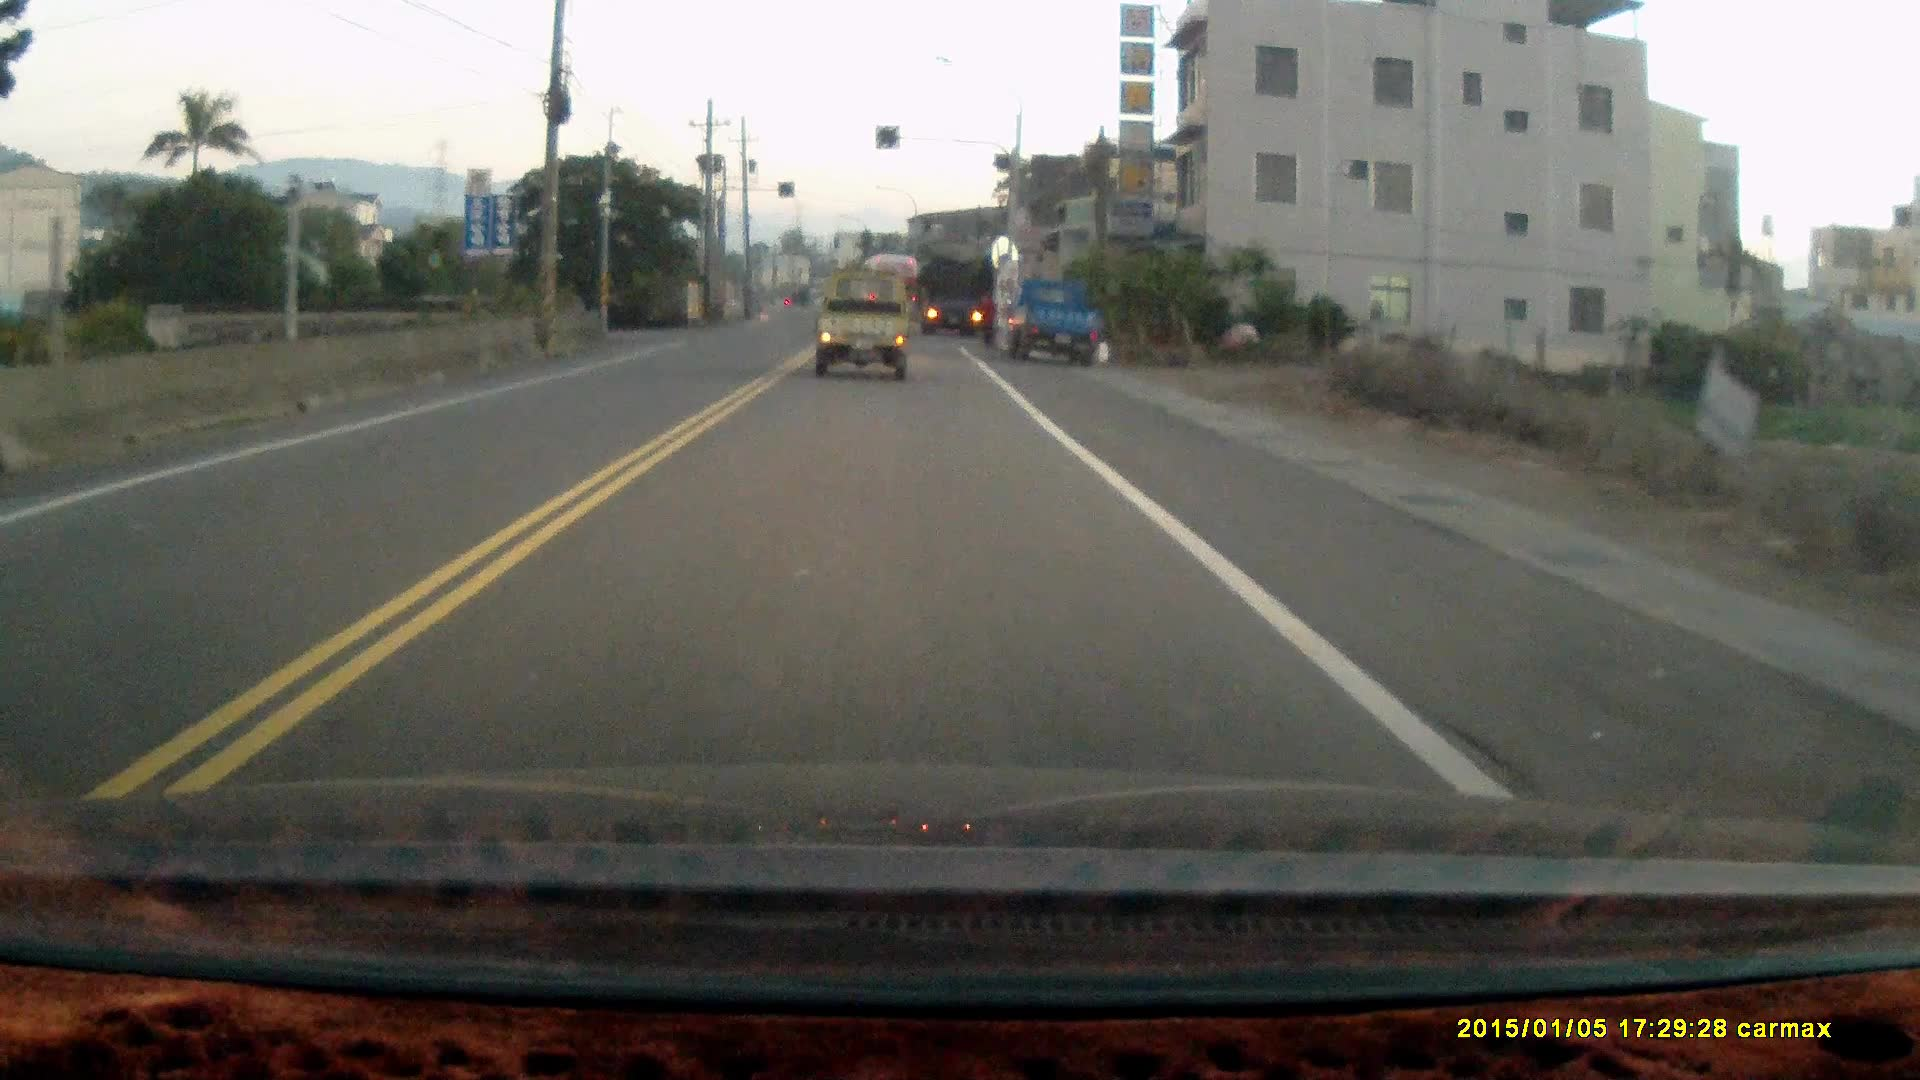vehicle: (1000, 273, 1118, 371), (811, 266, 914, 378), (919, 255, 994, 336)
